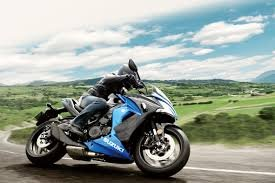motor: (28, 93, 193, 174)
